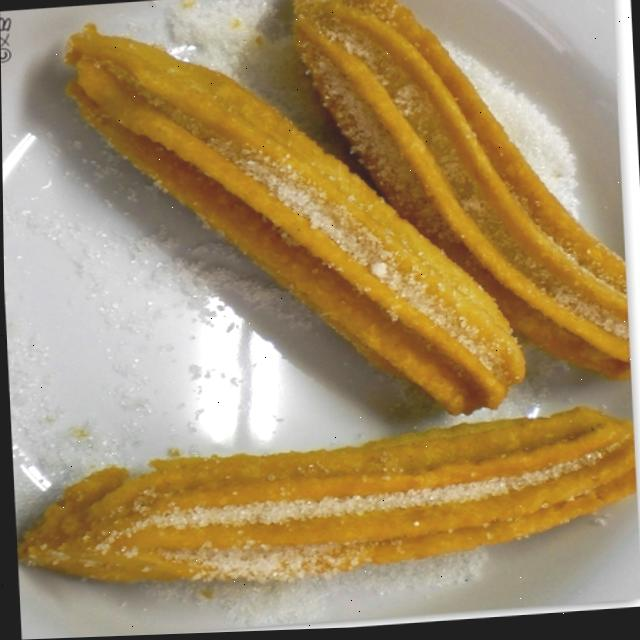炸货点心: (0, 0, 630, 611)
